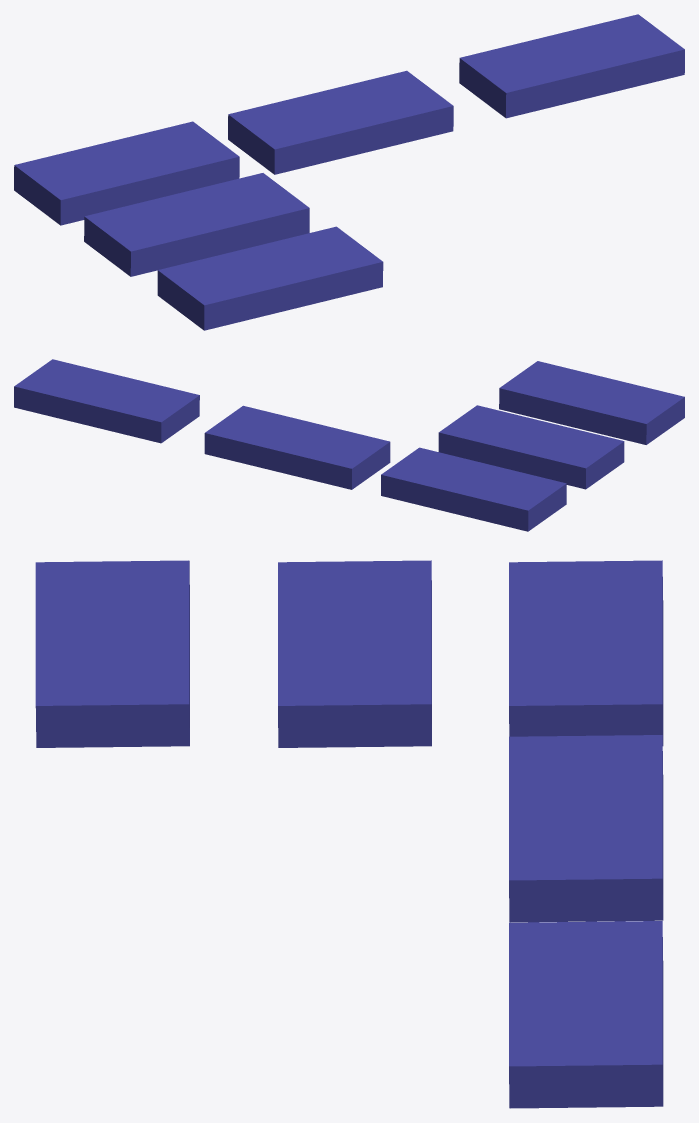
The model's file is micsher.032_material.011_0_lev1.glb.
The picture shows the model from 3 angles, top to bottom: view 1: azimuth 30°, elevation 25°; view 2: azimuth 150°, elevation 25°; view 3: azimuth 270°, elevation 25°; orthographic projection. The views are drawn at different scales.
Parts seen in each view (by area): view 1: micsher.032_material.011_0_lev1; view 2: micsher.032_material.011_0_lev1; view 3: micsher.032_material.011_0_lev1.
Part boxes in pixels (x1=…): micsher.032_material.011_0_lev1: x1=14, y1=14, x2=684, y2=330; micsher.032_material.011_0_lev1: x1=14, y1=359, x2=684, y2=531; micsher.032_material.011_0_lev1: x1=35, y1=560, x2=663, y2=1108.
Bounding box in the file's own units: 6.79 × 0.2917 × 3.59.
